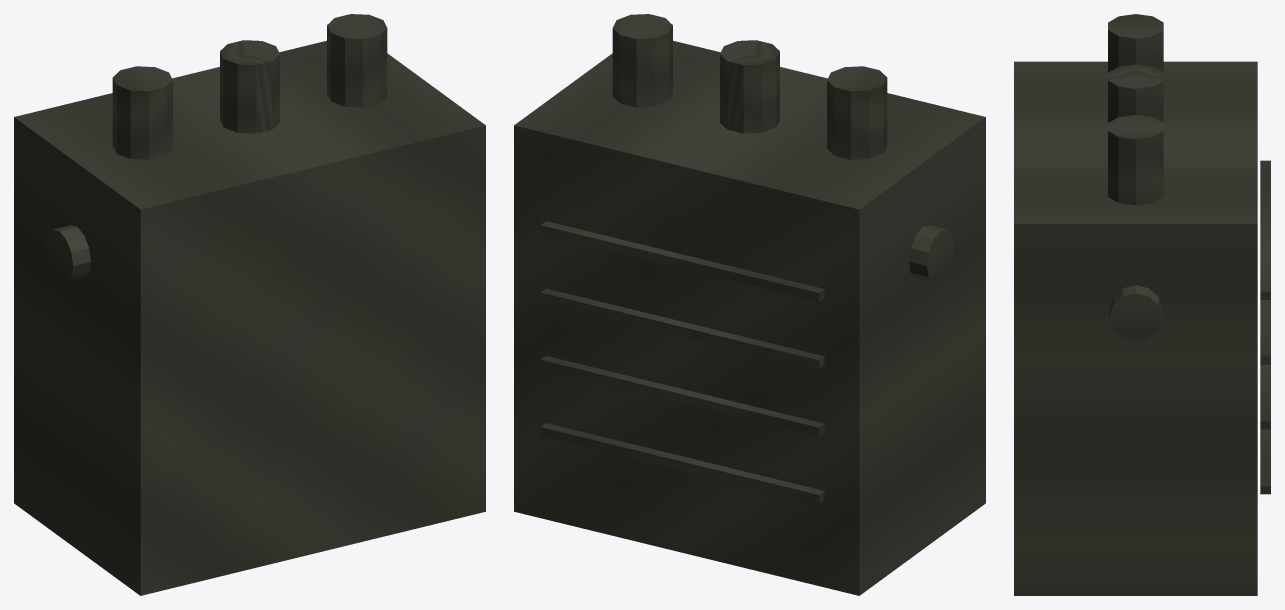
Rendered from env_pipe_manifold_bridge_a.glb.
The picture shows the model from 3 angles, left to right: view 1: azimuth 30°, elevation 25°; view 2: azimuth 150°, elevation 25°; view 3: azimuth 270°, elevation 25°; orthographic projection. The views are drawn at different scales.
Visible parts, largest first — view 1: env_pipe_manifold_bridge_a; view 2: env_pipe_manifold_bridge_a; view 3: env_pipe_manifold_bridge_a.
Part boxes in pixels (bbox=[...]): env_pipe_manifold_bridge_a: bbox=[14, 14, 485, 595]; env_pipe_manifold_bridge_a: bbox=[514, 14, 985, 595]; env_pipe_manifold_bridge_a: bbox=[1014, 14, 1270, 595].
Bounding box in the file's own units: 1.6 × 1.83 × 0.97.
Materials: 1 (1 with a texture image).
